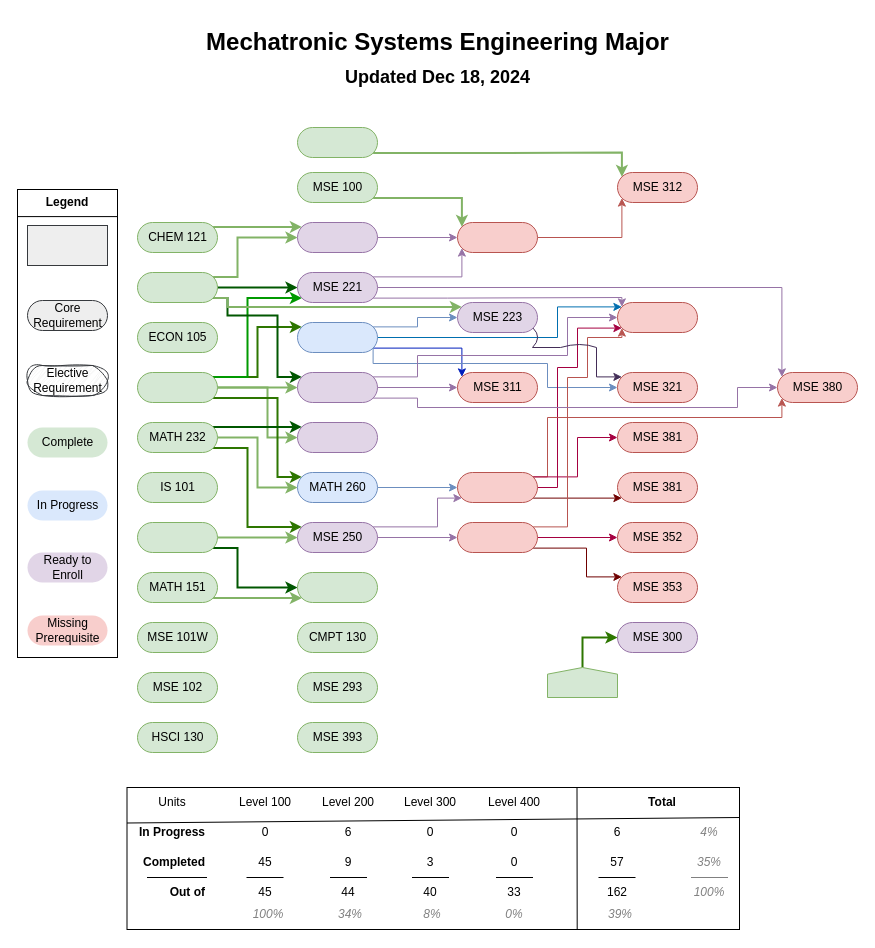
This 875x948 diagram has some shape labels left out. Here are the shapes that lost their labels. From the top down, the centre of each, then its label:
the point at 337,142: MSE 110
the point at 67,245: Non-Course Requirement
the point at 337,237: MSE 220
the point at 497,237: MSE 320
the point at 177,287: PHYS 140
the point at 337,337: MATH 251
the point at 657,317: MSE 310
the point at 177,387: MATH 152
the point at 337,387: MSE 222
the point at 337,437: MSE 211
the point at 497,487: MSE 280
the point at 177,537: PHYS 141
the point at 497,537: MSE 251
the point at 337,587: MSE 210
the point at 582,682: ≥65 Units
